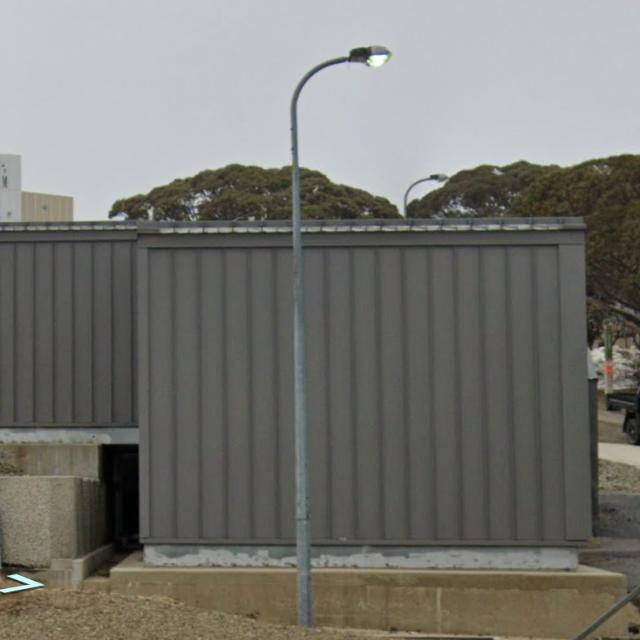mid mount suitable pole: (288, 44, 393, 628)
steel-pole: (288, 108, 314, 628)
streetlight: (289, 46, 393, 112)
